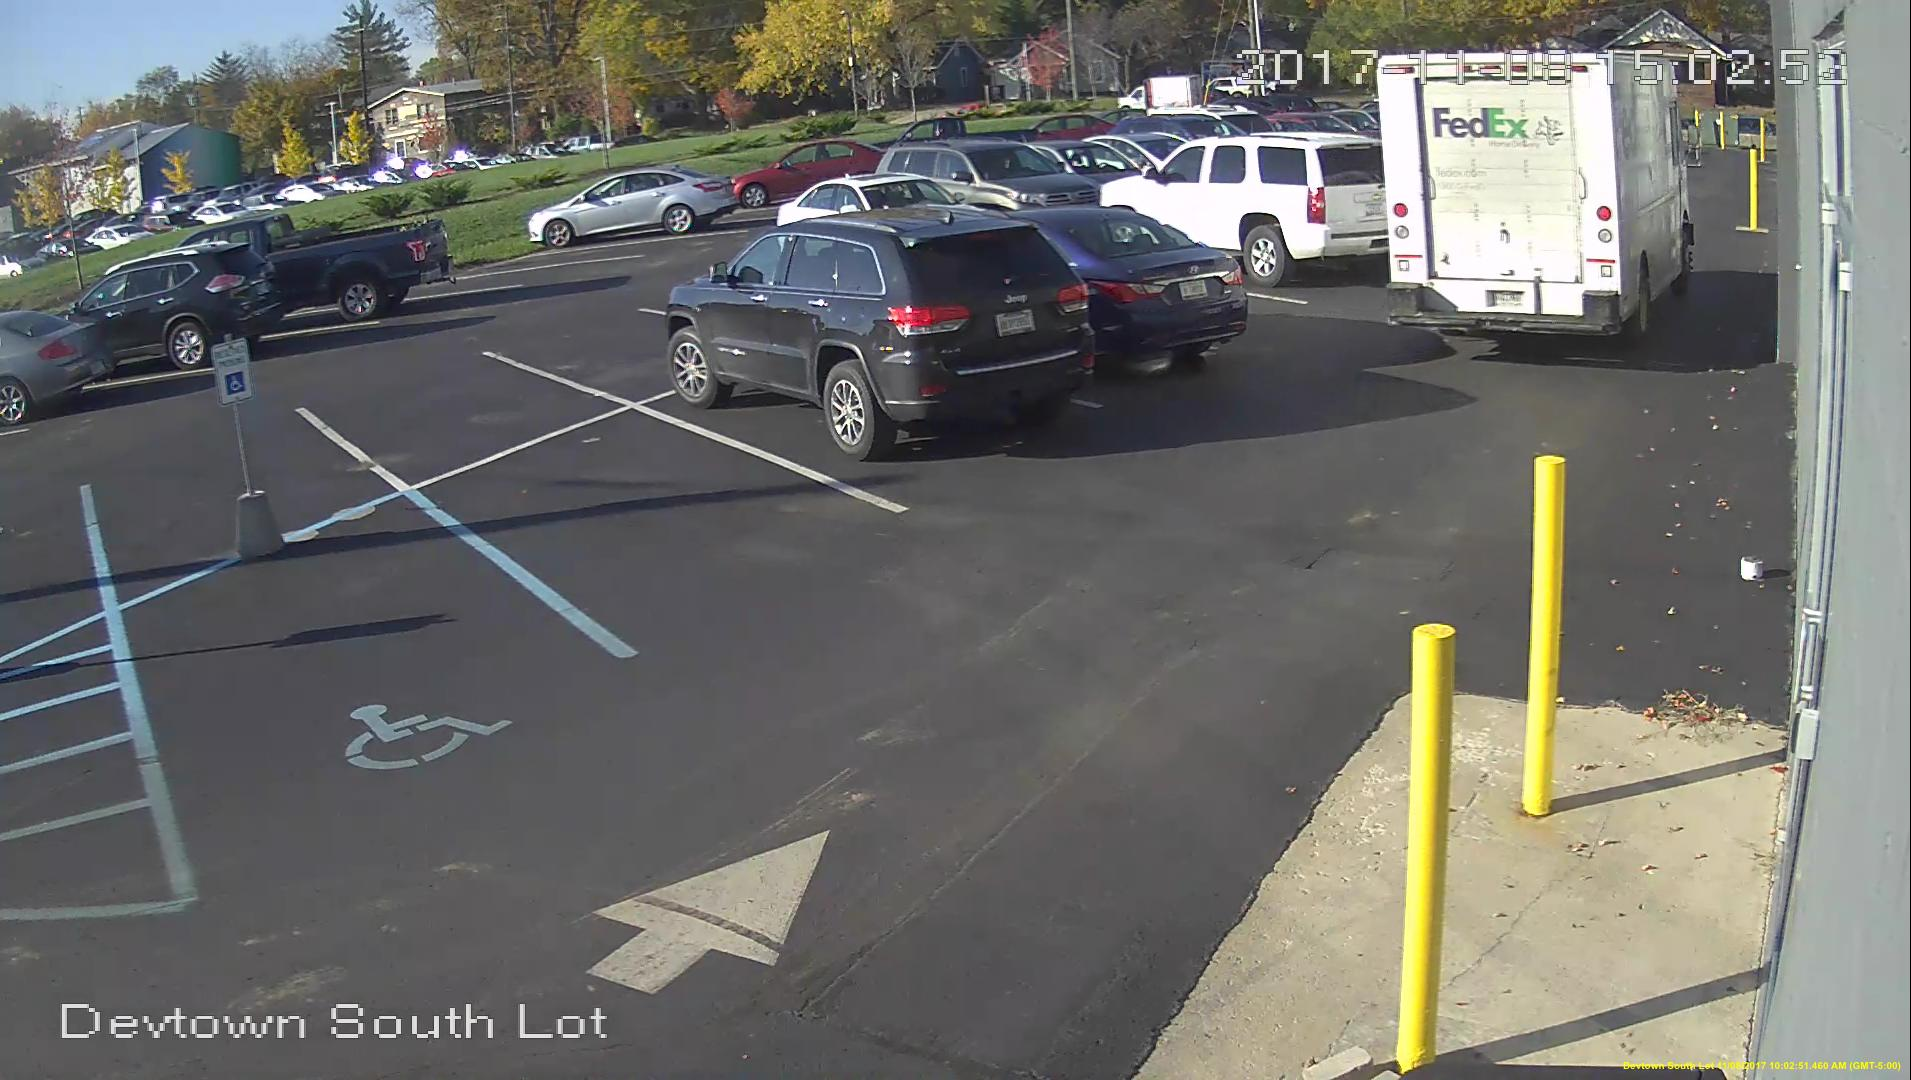fedex_truck: (1372, 45, 1698, 344)
